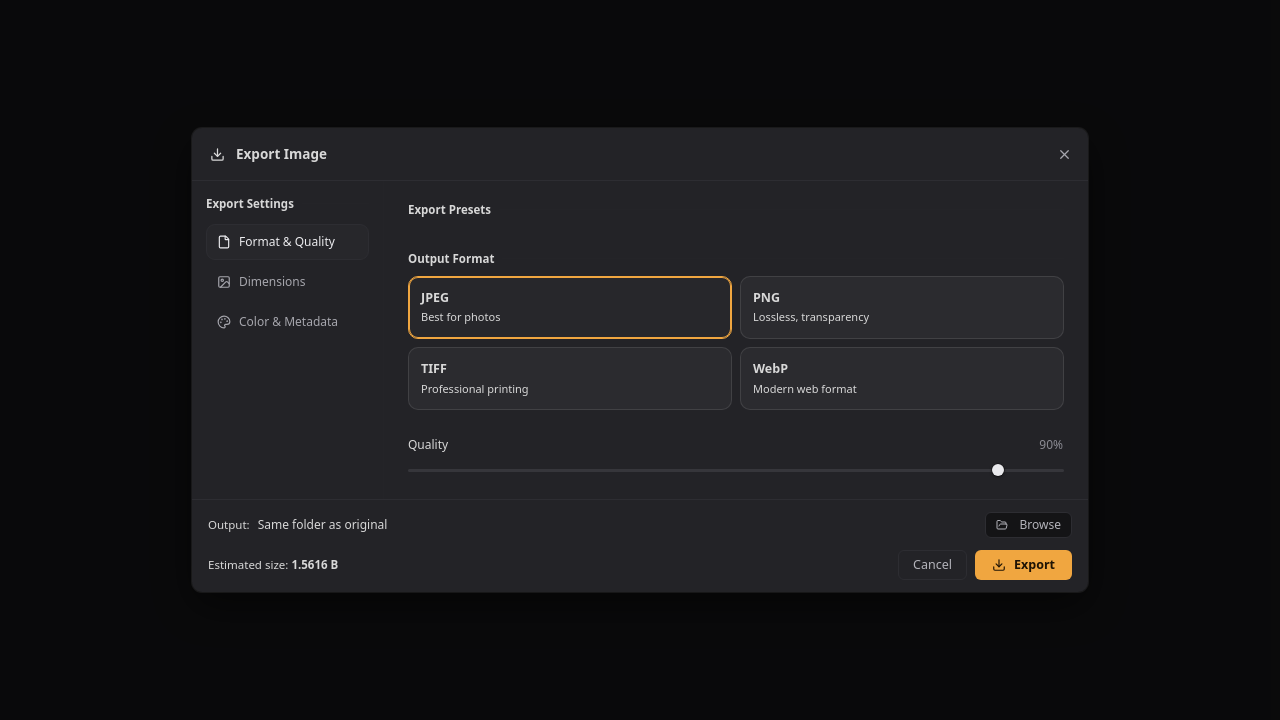
ExportDialog overwrite prompt - single export › Cancel writes nothing and leaves the export dialog open
The width and height of the screenshot is (1280, 720).
Click the button "Export". click: (1024, 565)
box: [975,550,1072,580]
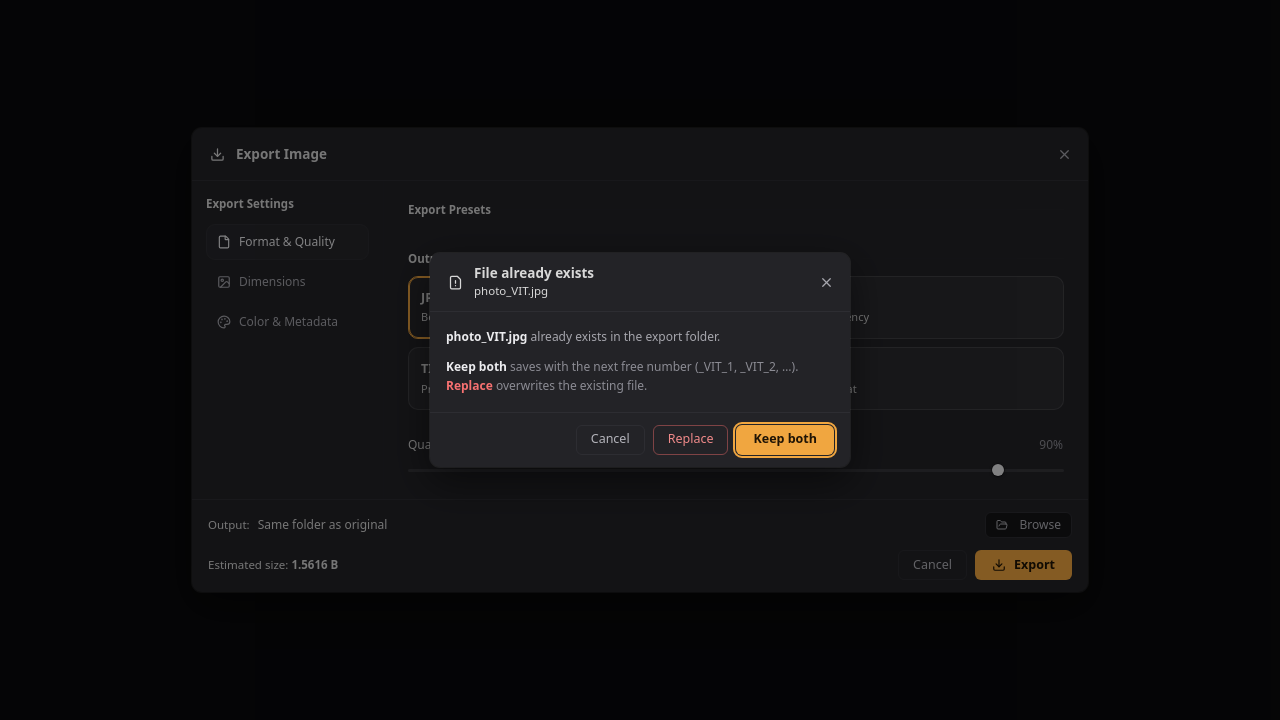
Result: the text "File already exists" is shown at [474,264,594,282]
Click the button "Cancel". click: (610, 440)
box: [576,425,645,455]
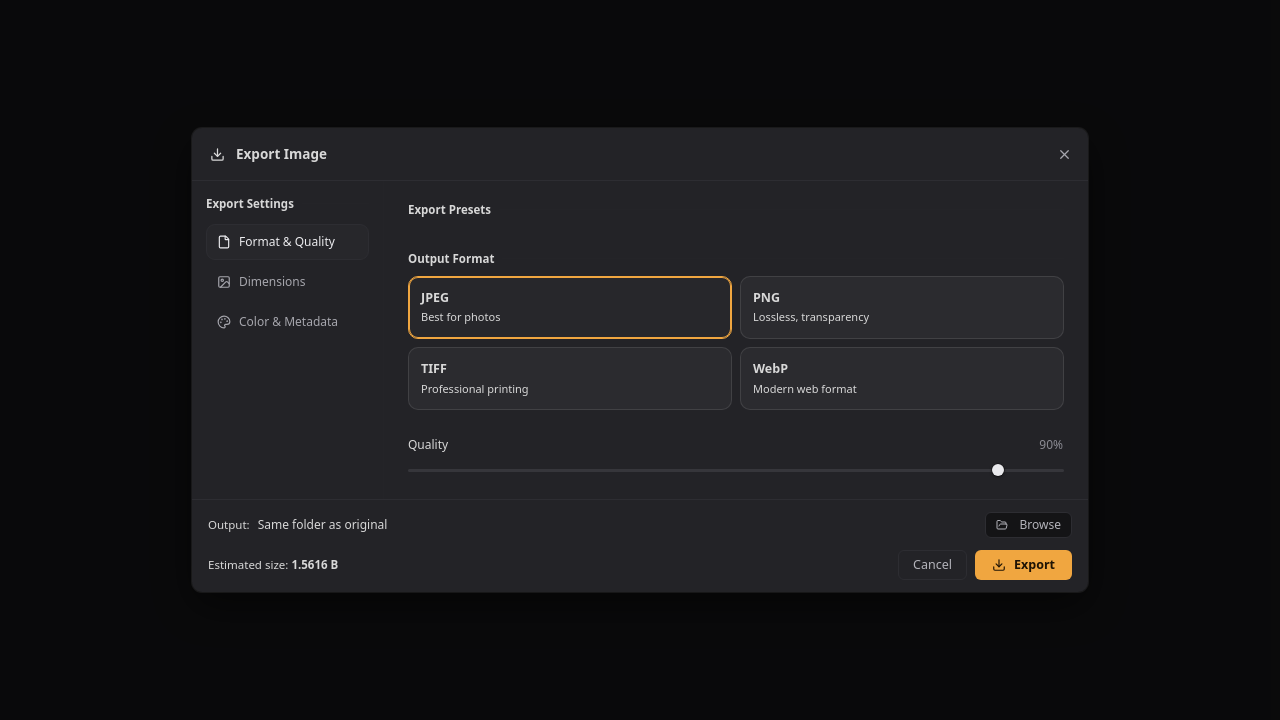
Expected: the text "Export Image" is shown, [236,145,327,163]
Result: the text "File already exists" is gone
